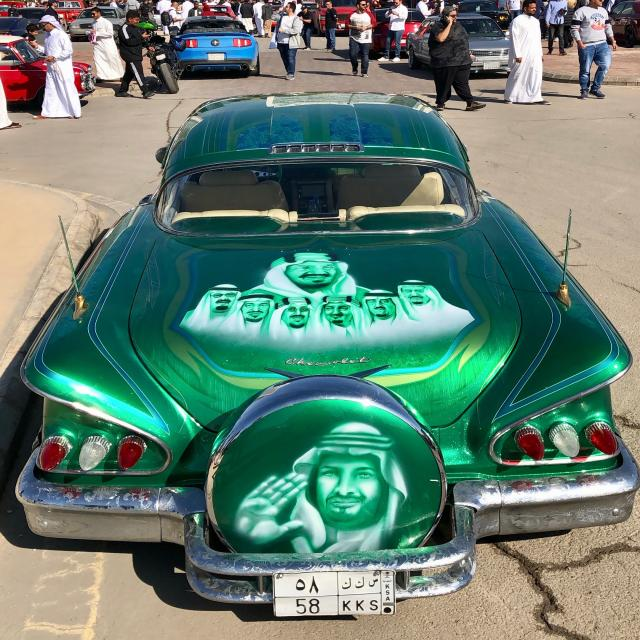license_plate: (268, 565, 399, 620)
